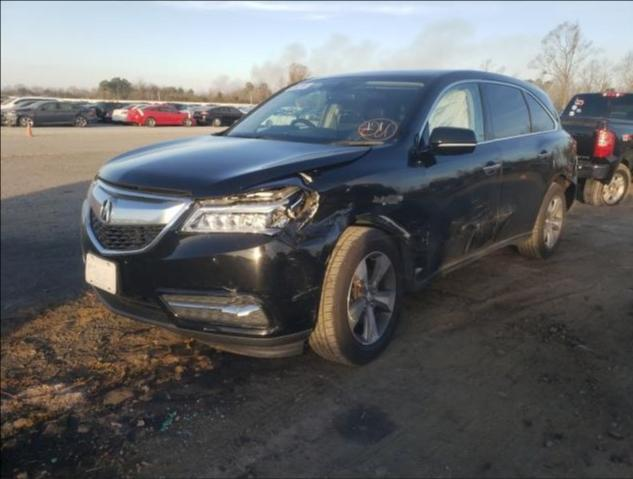Broken part: (263, 136, 428, 290), (175, 182, 310, 234), (158, 290, 269, 327)
Dent: (292, 182, 403, 263), (548, 139, 576, 185)
Paint chip: (372, 194, 404, 205), (299, 172, 316, 185), (219, 285, 239, 291), (209, 255, 219, 264), (343, 186, 354, 192)
Scratch: (287, 204, 351, 253), (359, 213, 414, 243), (554, 141, 577, 175), (290, 284, 318, 304), (417, 226, 431, 250), (281, 253, 298, 261), (269, 323, 278, 335)
